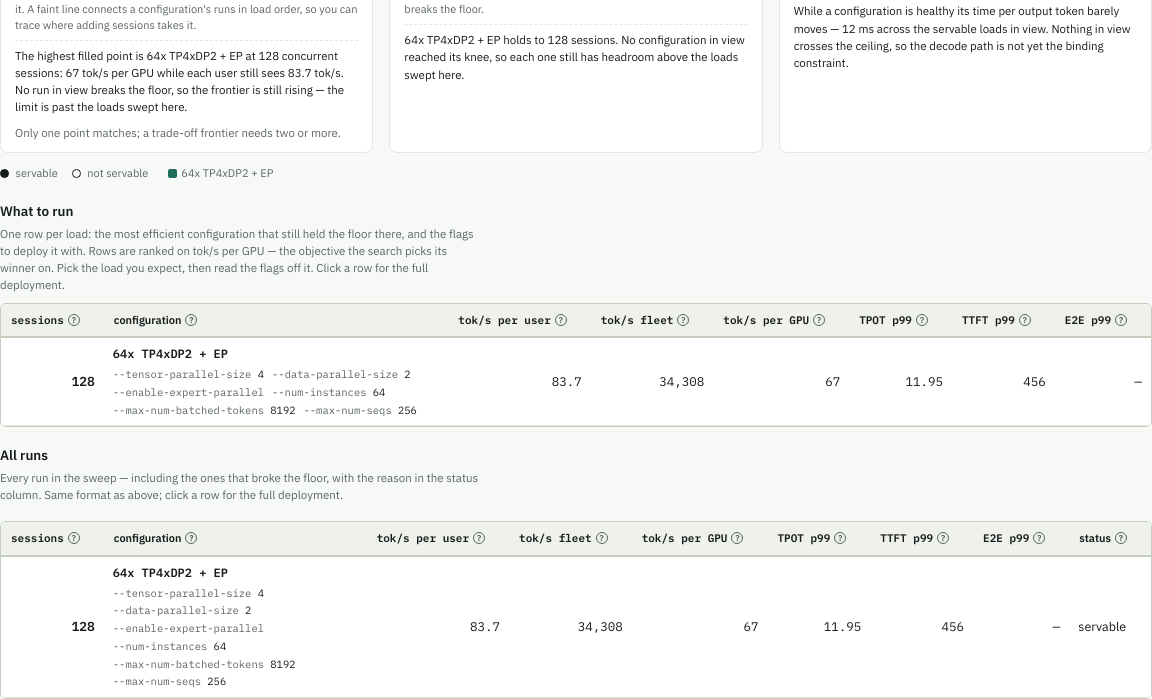
what to run: operating points › clicking a row opens that run's deployment panel
The width and height of the screenshot is (1152, 699).
(page scrolled)
Click the row named "Show the full deployment for this run" at (576, 381), box [1,337,1151,426]
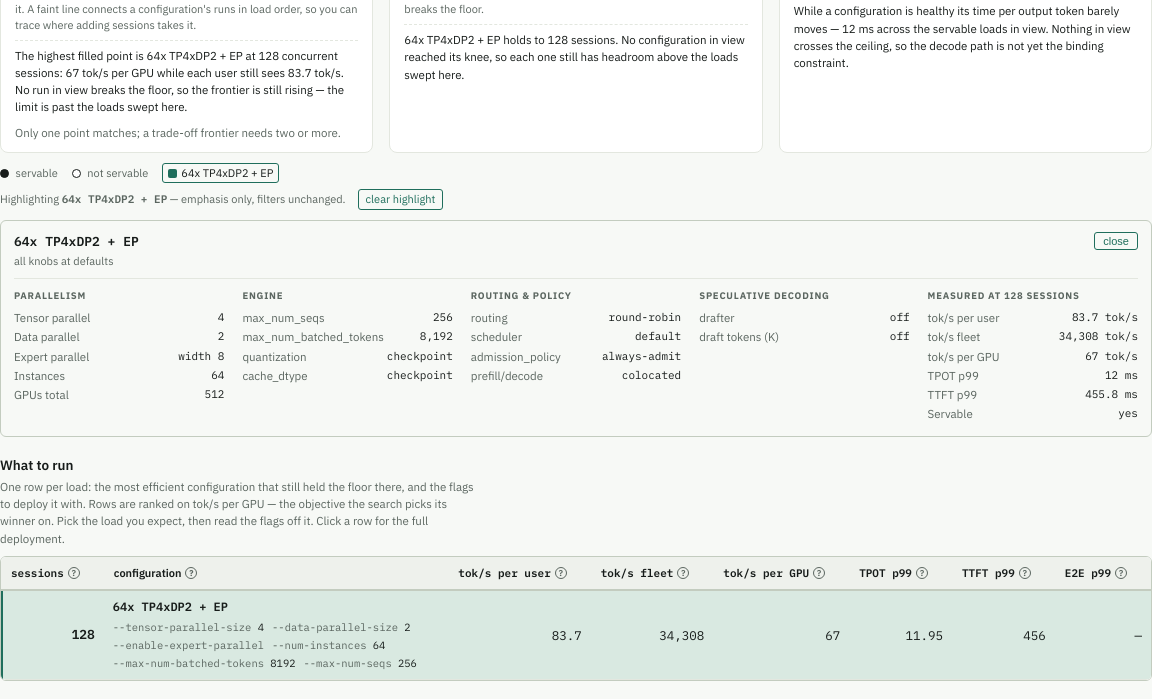
expect the element with test id "pt-detail" is shown: met, box [0,220,1151,437]
